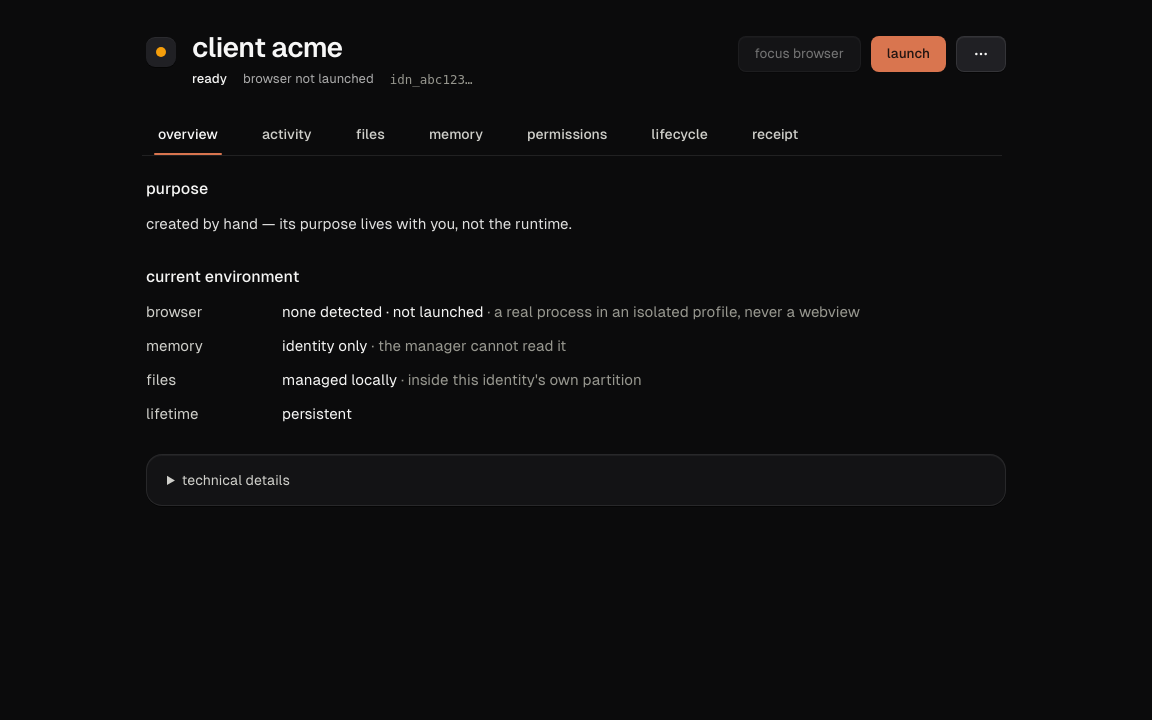
identity workspace › keeps destroy inside the more menu behind an explicit confirmation dialog
Later steps or results of the test are not shown.
Click the button named "more actions" at (981, 54), box [956,36,1006,72]
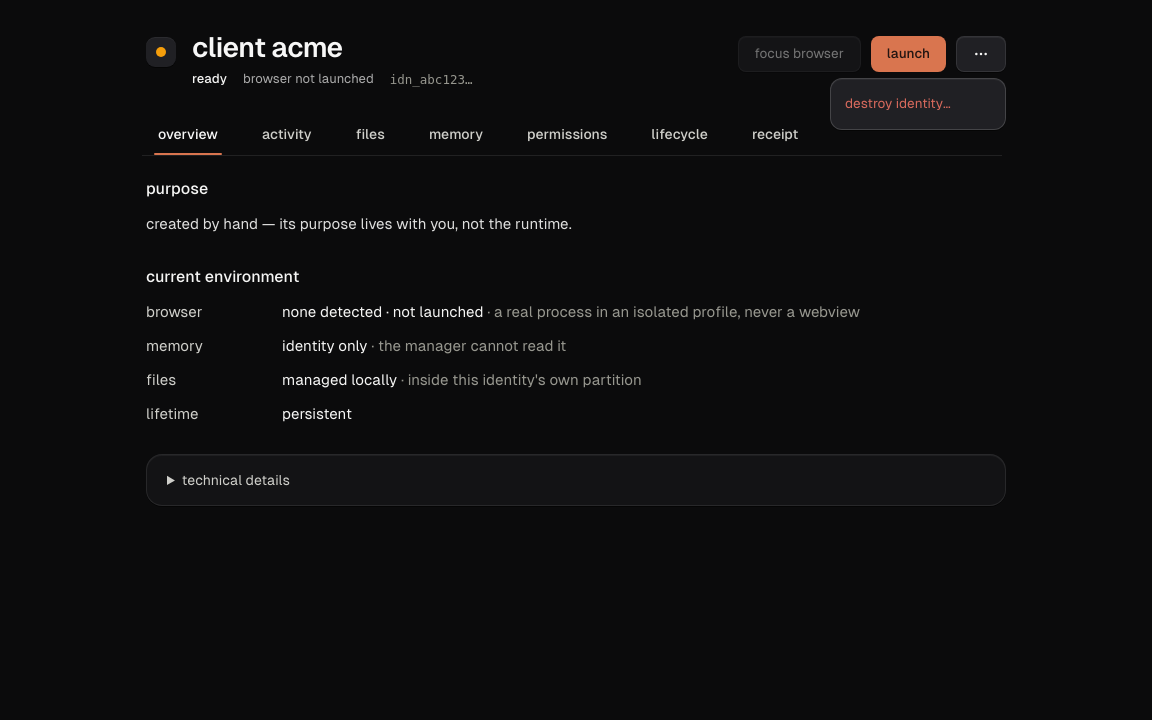
Click the menu item "destroy identity…" at (918, 104), box [831,85,1005,123]
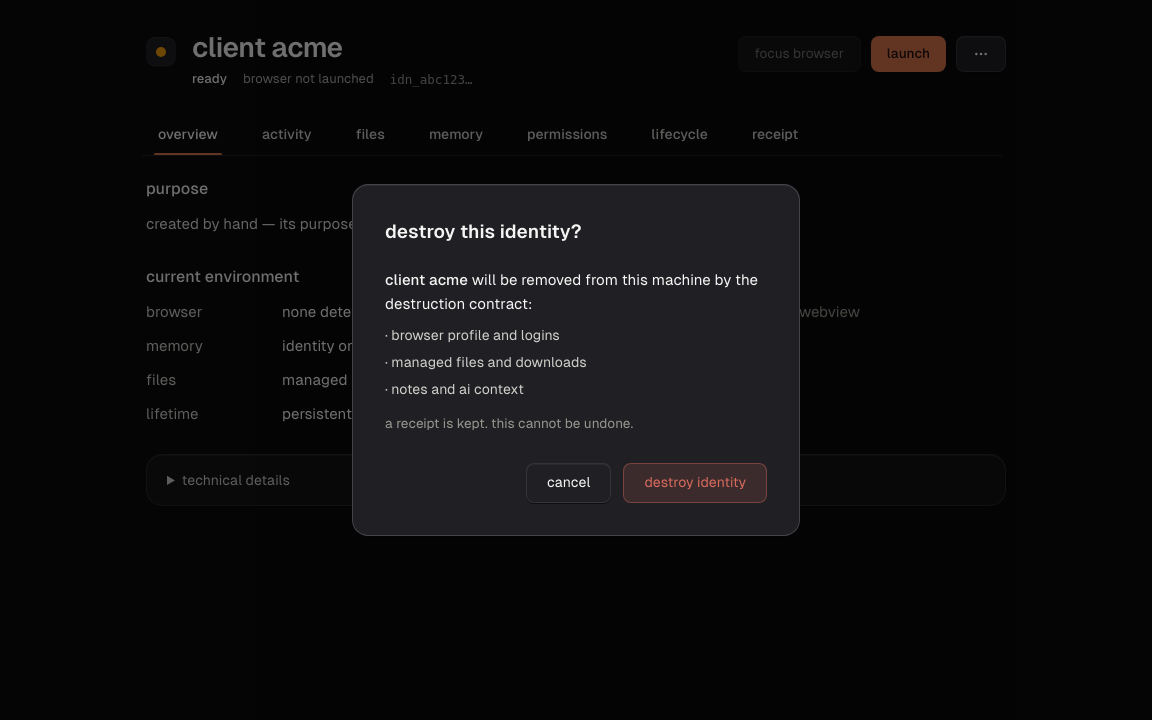
expect the dialog is shown: met, box [352,184,800,536]
expect the text "a receipt is kept. this cannot be undone." is shown: met, box [385,416,633,431]
